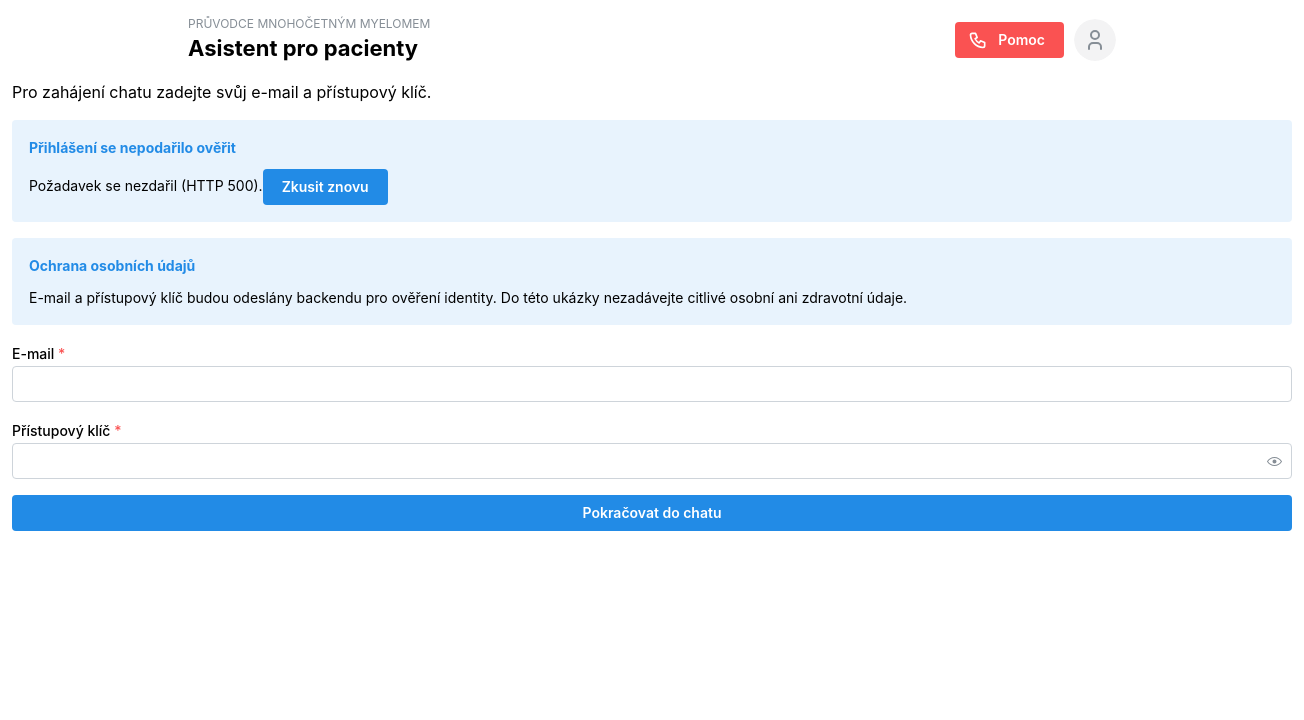
connected patient chat › reports session-check failures and restores the session on retry
Check: the text "Přihlášení se nepodařilo ověřit" is shown, box [29,137,236,159]
Check: the text "Zatím nemáte žádné konverzace." is not shown
Click the button "Zkusit znovu" at {"x": 325, "y": 187}, box [263,169,388,205]
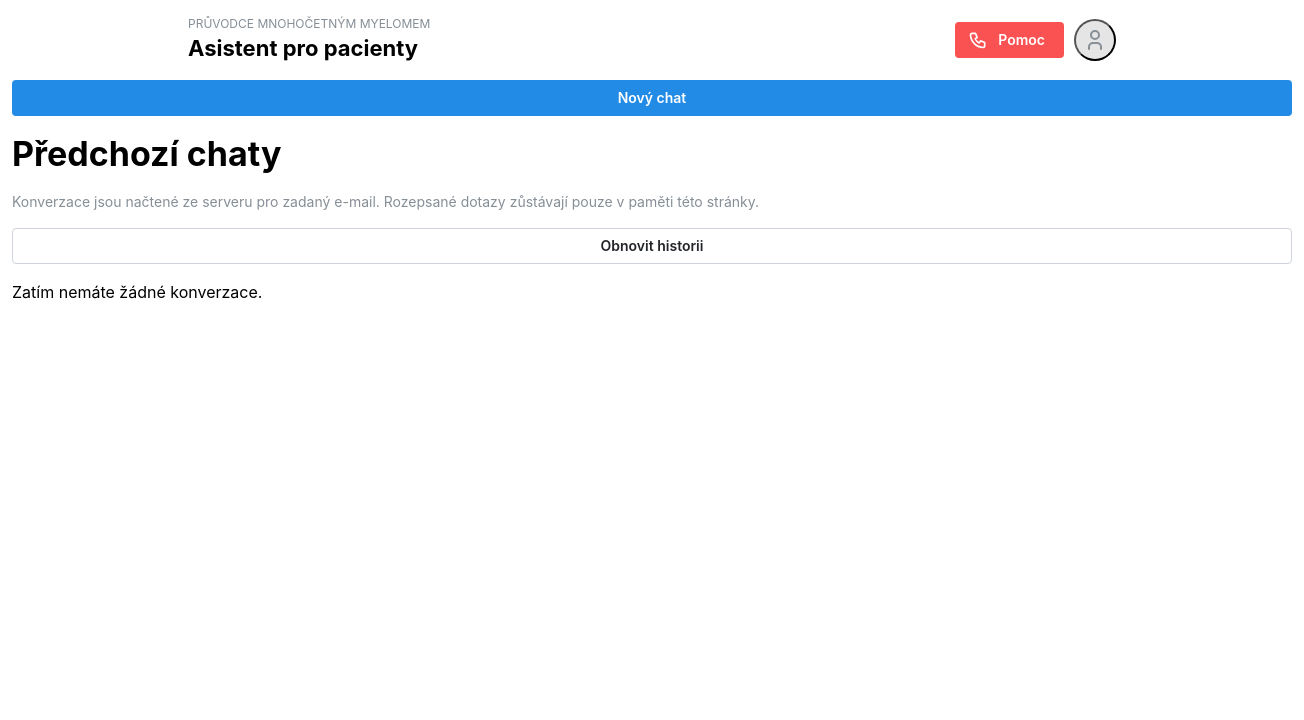
Check: the text "Zatím nemáte žádné konverzace." is shown, box [12,282,262,302]
